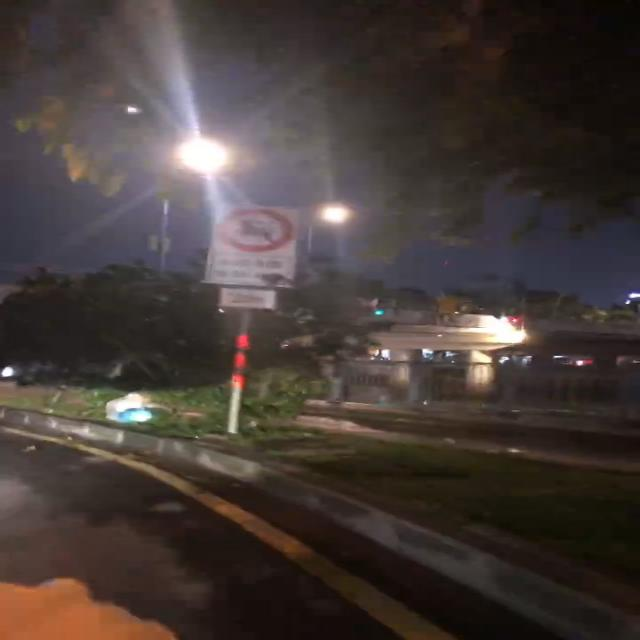Bien bao cam xe oto: (210, 207, 298, 253)
